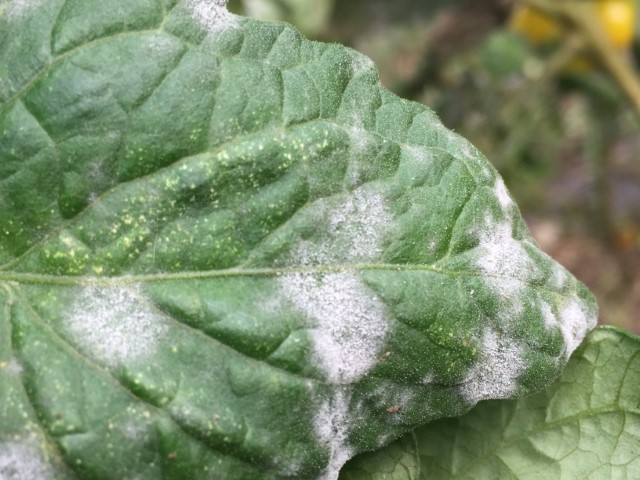blanca: (282, 270, 396, 383), (64, 278, 171, 372), (286, 189, 397, 262), (472, 213, 541, 318), (541, 262, 597, 357), (460, 321, 524, 401), (306, 385, 356, 480), (1, 432, 59, 480), (185, 1, 249, 38), (362, 385, 417, 416), (491, 174, 513, 213), (350, 52, 375, 74), (372, 425, 390, 448), (421, 370, 436, 386)
